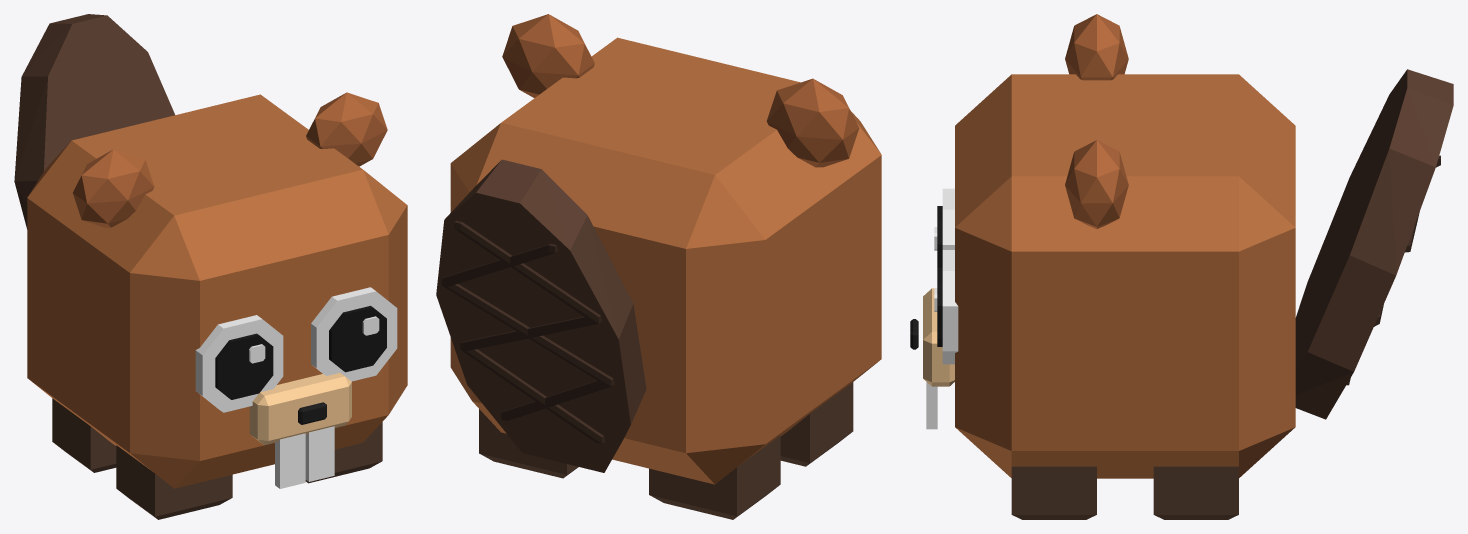
File: Beaver.fbx
3 views of the same model, side by side, from view 1: azimuth 30°, elevation 25°; view 2: azimuth 150°, elevation 25°; view 3: azimuth 270°, elevation 25° (orthographic). The views are drawn at different scales.
Parts seen in each view (by area): view 1: Beaver, Beaver_Tail, Beaver_Ears, Beaver_Feet, Beaver_Eyes, Beaver_Pupils, Beaver_Muzzle, Beaver_Teeth, Beaver_Nose; view 2: Beaver, Beaver_Tail, Beaver_Ears, Beaver_Feet, Beaver_Grid; view 3: Beaver, Beaver_Tail, Beaver_Feet, Beaver_Ears, Beaver_Eyes, Beaver_Muzzle, Beaver_Pupils.
Part boxes in pixels (bbox=[...]): Beaver: bbox=[27, 94, 407, 488]; Beaver_Tail: bbox=[14, 14, 174, 229]; Beaver_Ears: bbox=[73, 92, 387, 227]; Beaver_Feet: bbox=[52, 398, 382, 519]; Beaver_Eyes: bbox=[195, 287, 397, 412]; Beaver_Pupils: bbox=[215, 305, 386, 399]; Beaver_Muzzle: bbox=[249, 373, 351, 445]; Beaver_Teeth: bbox=[275, 426, 334, 488]; Beaver_Nose: bbox=[298, 402, 326, 424]; Beaver: bbox=[450, 37, 881, 484]; Beaver_Tail: bbox=[436, 159, 646, 472]; Beaver_Ears: bbox=[502, 14, 859, 167]; Beaver_Feet: bbox=[479, 382, 853, 519]; Beaver_Grid: bbox=[441, 220, 614, 443]; Beaver: bbox=[955, 74, 1295, 478]; Beaver_Tail: bbox=[1295, 69, 1453, 419]; Beaver_Feet: bbox=[1011, 466, 1238, 519]; Beaver_Ears: bbox=[1065, 14, 1128, 228]; Beaver_Eyes: bbox=[934, 188, 958, 364]; Beaver_Muzzle: bbox=[923, 288, 954, 386]; Beaver_Pupils: bbox=[937, 206, 942, 346].
Size of the model in its own units: 2.16 by 2.4 by 3.06.
